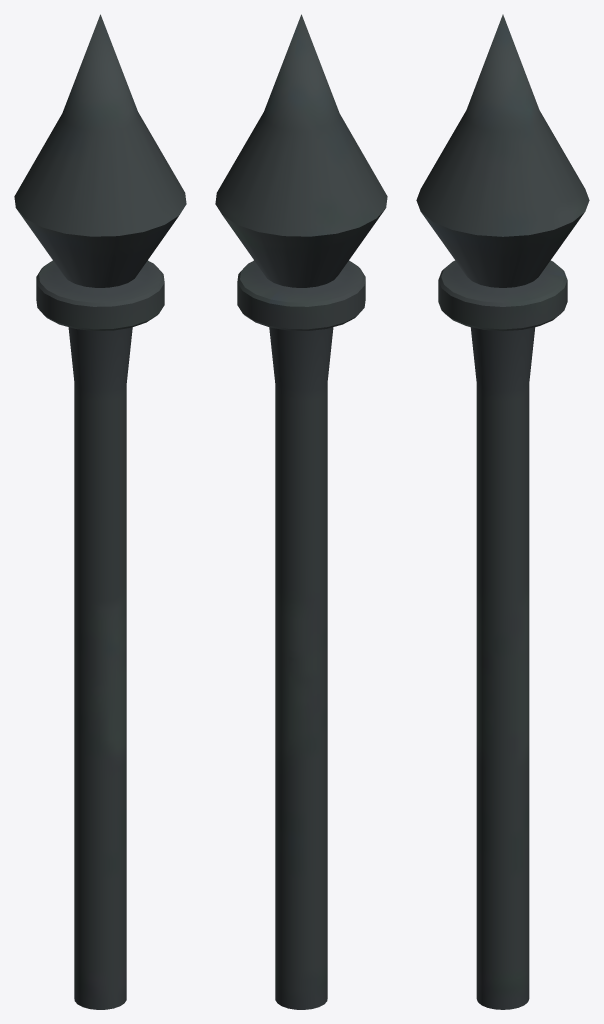
Rendered from fenceSpike2.fbx.
The picture shows the model from 3 angles, left to right: view 1: azimuth 30°, elevation 25°; view 2: azimuth 150°, elevation 25°; view 3: azimuth 270°, elevation 25°; orthographic projection.
Visible parts, largest first — view 1: fenceSpike2; view 2: fenceSpike2; view 3: fenceSpike2.
Boxes of the visible parts, left/top/right/bottom form: fenceSpike2: left=14, top=14, right=186, bottom=1009; fenceSpike2: left=215, top=14, right=387, bottom=1009; fenceSpike2: left=416, top=14, right=589, bottom=1009.
Bounding box in the file's own units: 0.0812 × 0.5096 × 0.0812.
1 material, 1 textured.
